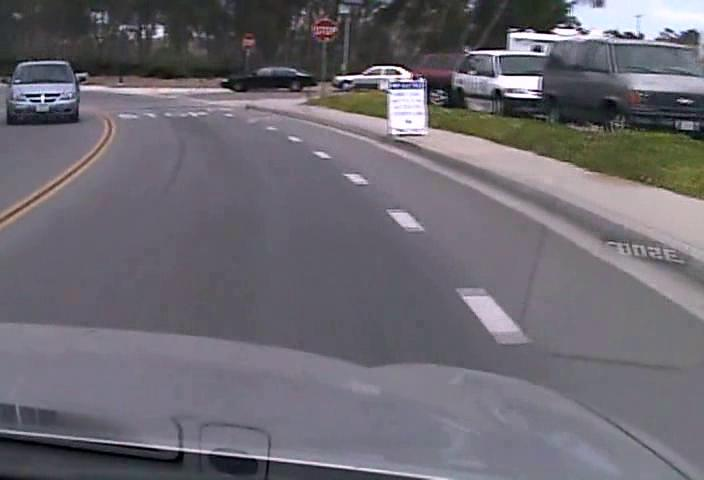stop: (311, 16, 340, 44)
